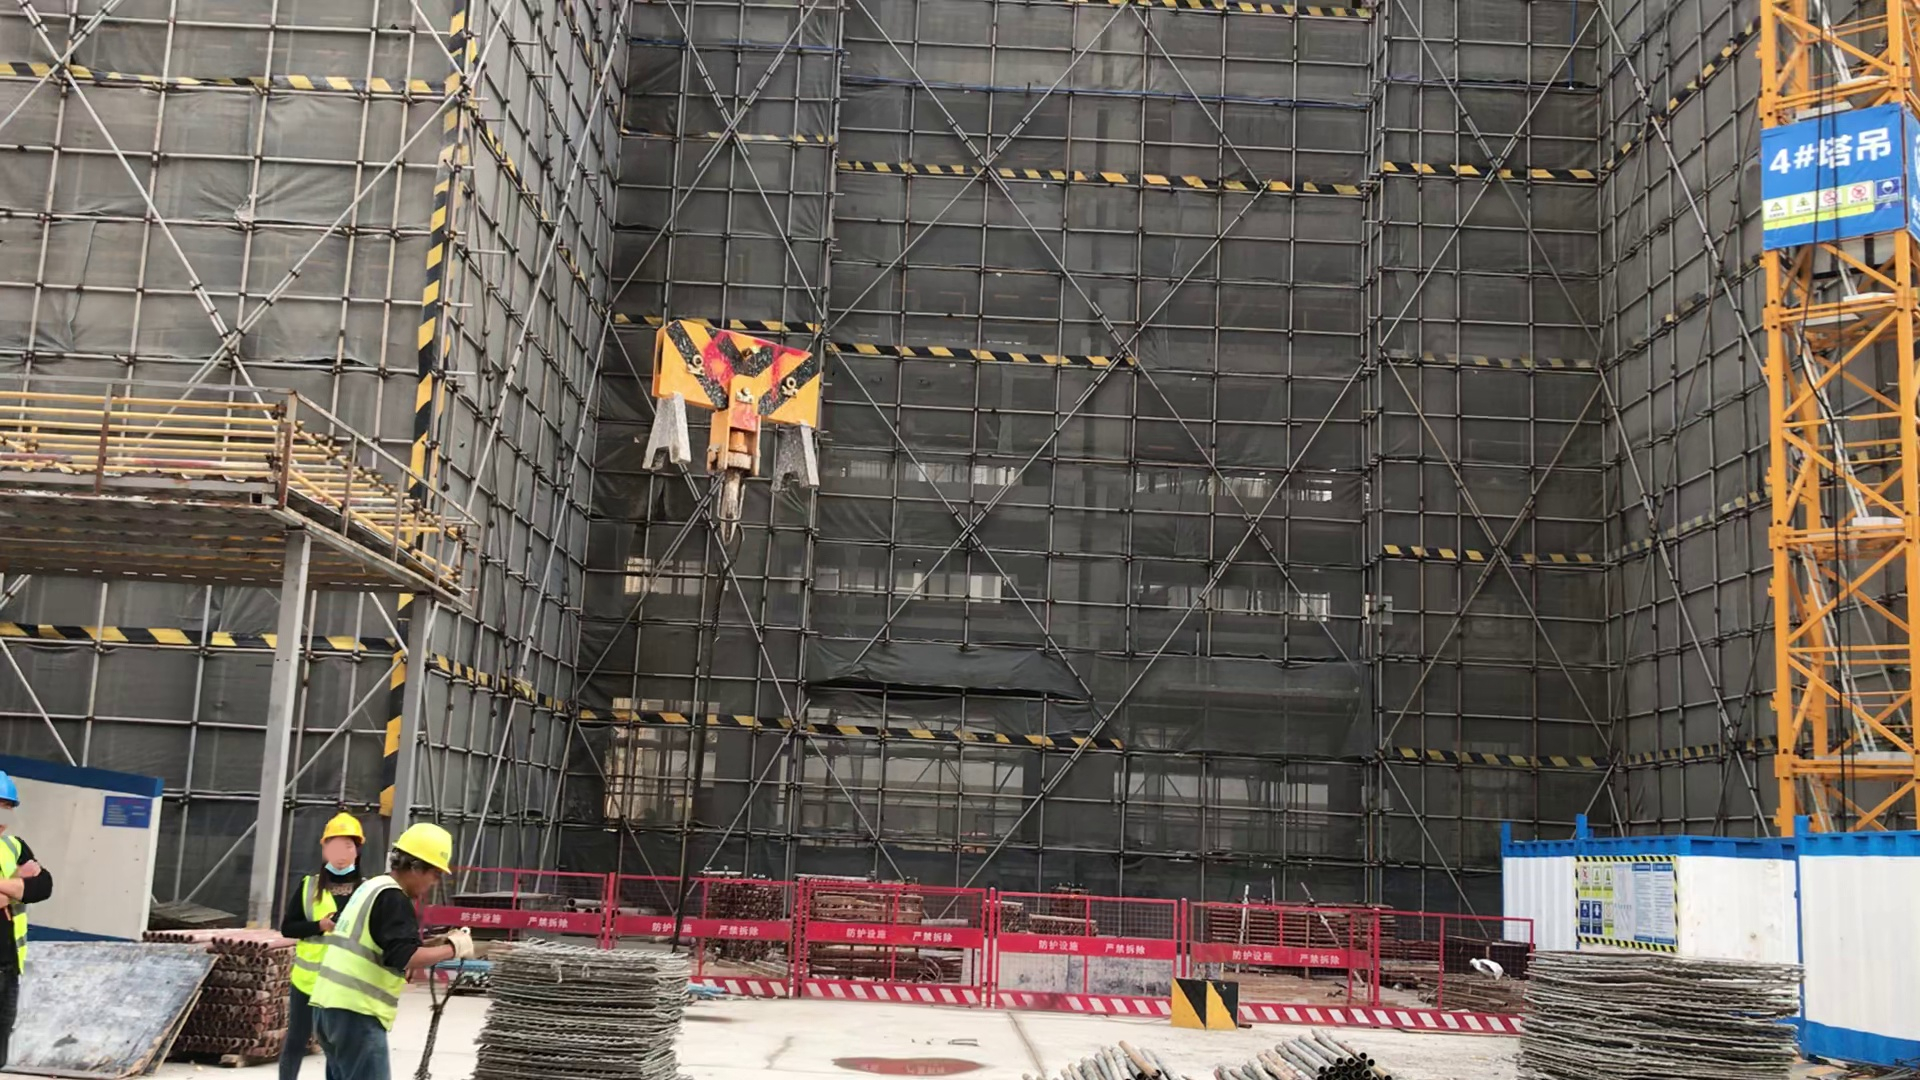fence: (717, 869, 1169, 1023), (1239, 900, 1515, 1037), (478, 858, 665, 942)
helmet: (390, 823, 454, 877), (321, 814, 365, 844), (1, 772, 22, 808)
hook: (634, 319, 833, 553)
person: (305, 821, 476, 1080), (1, 767, 57, 1080), (280, 810, 371, 883)
scaffold: (206, 923, 289, 1069), (1215, 1031, 1396, 1080), (1055, 1039, 1170, 1080)
slogan: (1766, 124, 1907, 237), (1576, 857, 1673, 948)
vest: (305, 872, 412, 1037), (1, 835, 31, 980)
